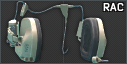Ops-Core FAST RAC Headset: (0, 0, 127, 64)
